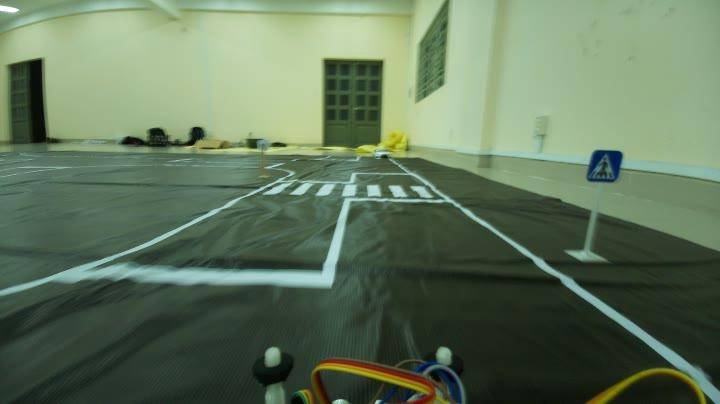crosswalk: (576, 141, 624, 182)
